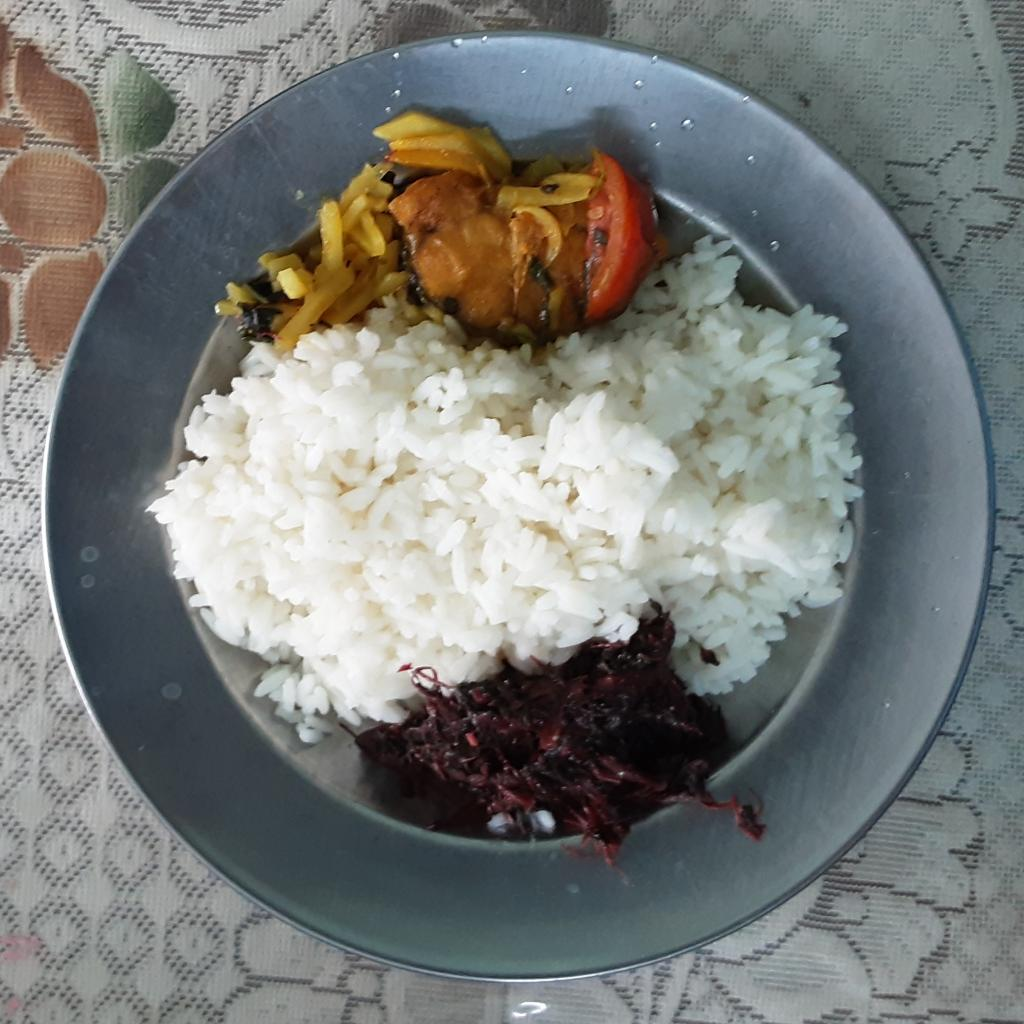fish: (386, 170, 589, 349)
lal-shak: (390, 599, 765, 851)
potato: (208, 102, 591, 341)
rice: (148, 227, 859, 746)
tomato: (580, 151, 646, 315)
